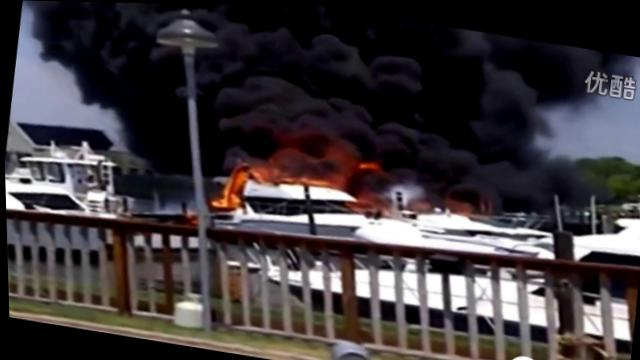fire: (217, 162, 246, 206), (252, 159, 297, 182)
